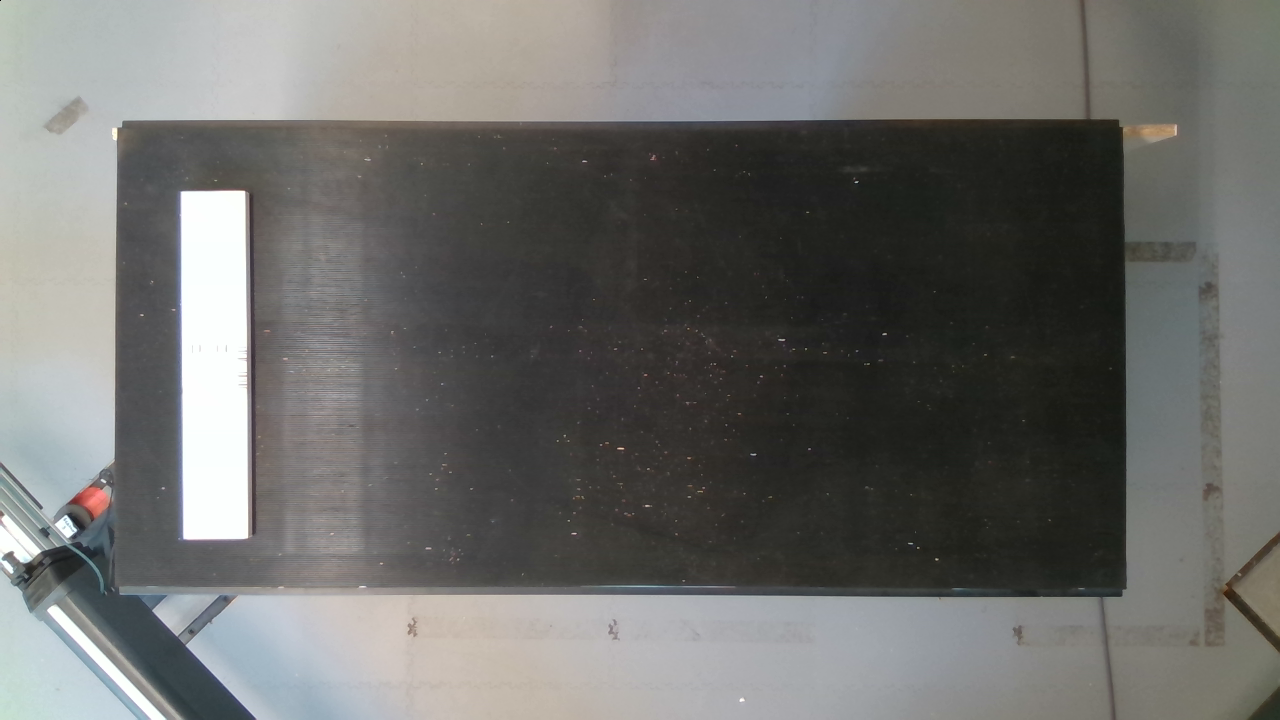barcode: (175, 335, 255, 411)
part1: (165, 181, 262, 543)
